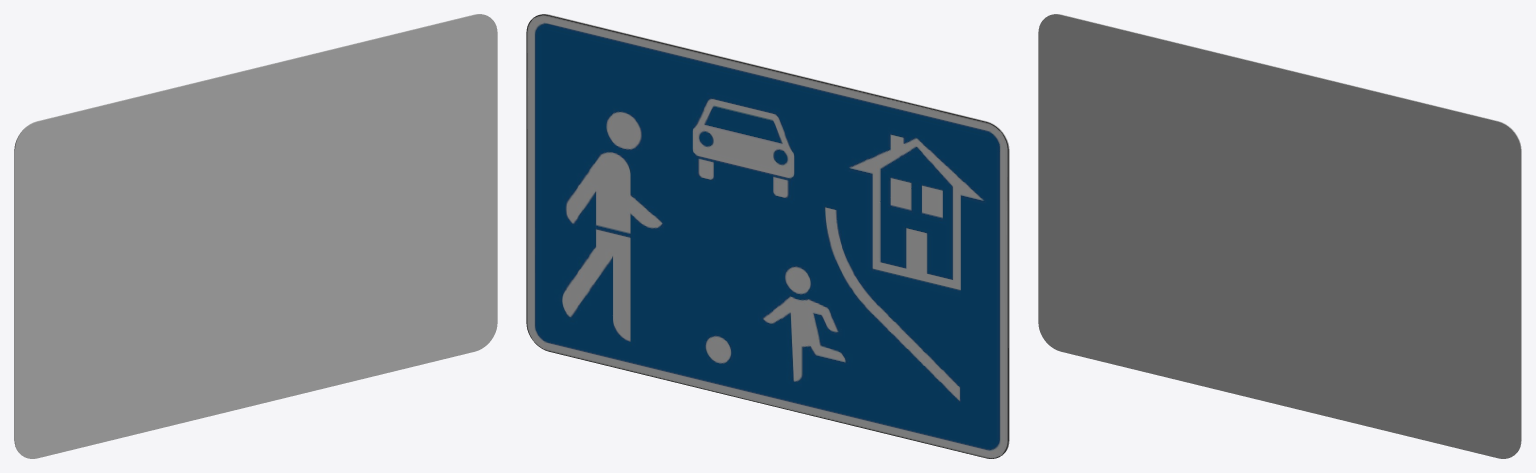
The picture shows the model from 3 angles, left to right: view 1: azimuth 30°, elevation 25°; view 2: azimuth 150°, elevation 25°; view 3: azimuth 330°, elevation 25°; orthographic projection.
Visible parts, largest first — view 1: Plane; view 2: Plane; view 3: Plane.
Part boxes in pixels (<box>): Plane: <box>14,14,497,458</box>; Plane: <box>526,14,1009,458</box>; Plane: <box>1038,14,1521,458</box>.
Bounding box in the file's own units: 0.9 × 0.6 × 0.002.
2 materials, 1 textured.
